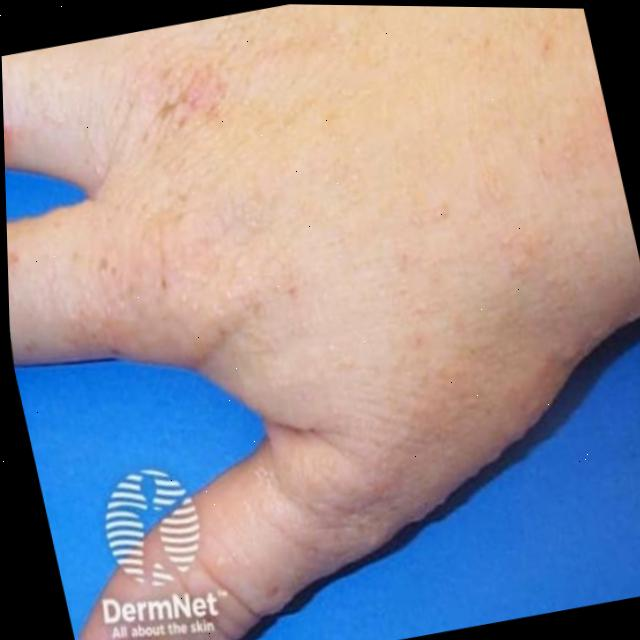Eczema: (74, 40, 235, 162)
